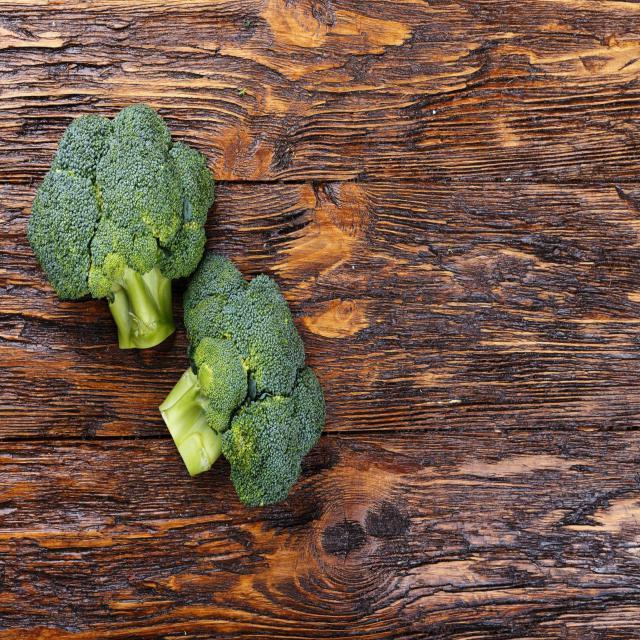broccoli: (26, 98, 217, 344), (158, 250, 329, 512)
